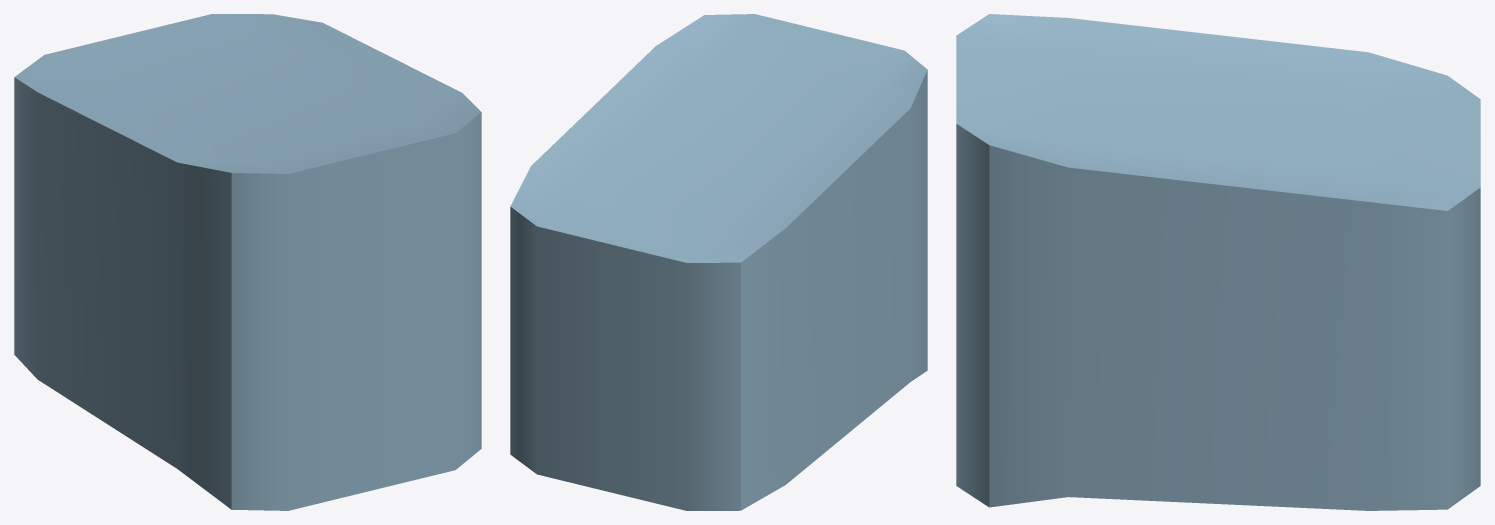
File: terrain_W2lakeb.fbx
3 renders of one model, left to right at view 1: azimuth 30°, elevation 25°; view 2: azimuth 150°, elevation 25°; view 3: azimuth 270°, elevation 25°, orthographic. The views are drawn at different scales.
Parts seen in each view (by area): view 1: W2A8b_mesh; view 2: W2A8b_mesh; view 3: W2A8b_mesh.
Part boxes in pixels (box(x1,y1,x2,y2)): W2A8b_mesh: box(14, 14, 481, 510); W2A8b_mesh: box(510, 14, 927, 510); W2A8b_mesh: box(956, 14, 1480, 510).
Size of the model in its own units: 4703 by 5310 by 6966.
